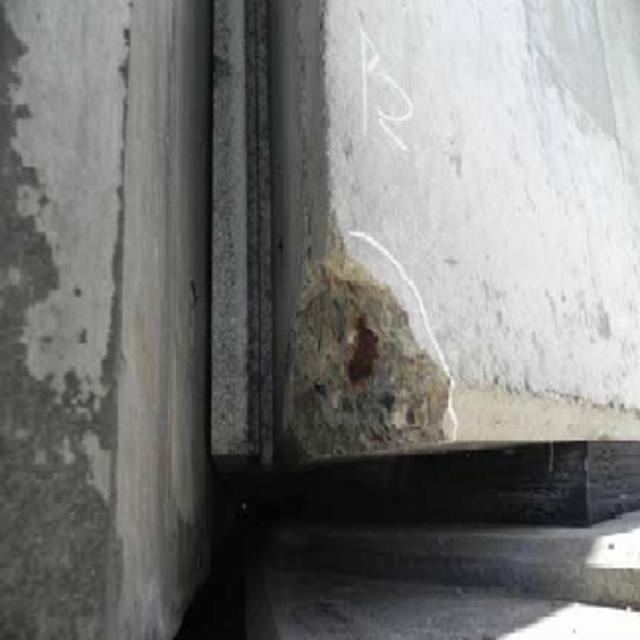spalling: (254, 240, 486, 481)
